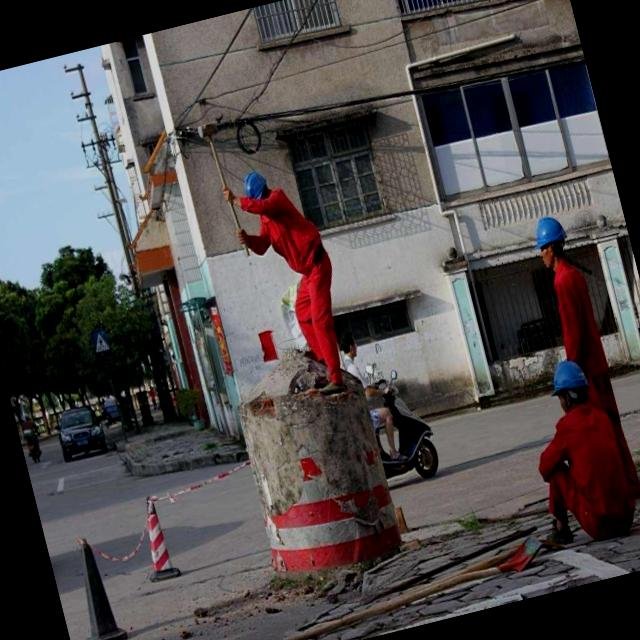helmet: (544, 354, 592, 399), (530, 206, 567, 252), (241, 163, 274, 203)
